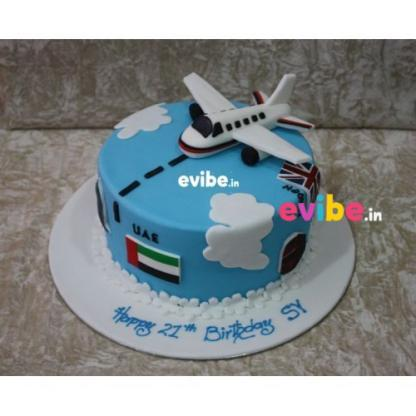CIV_Plane: (177, 69, 317, 167)
